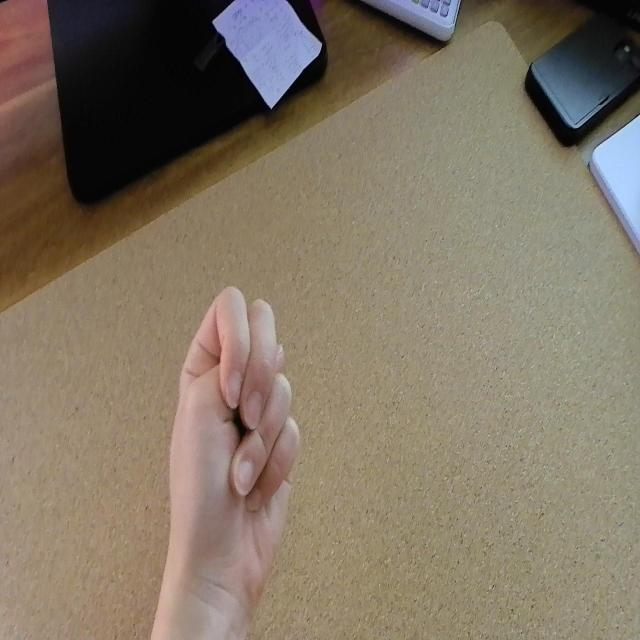N: (156, 282, 306, 611)
